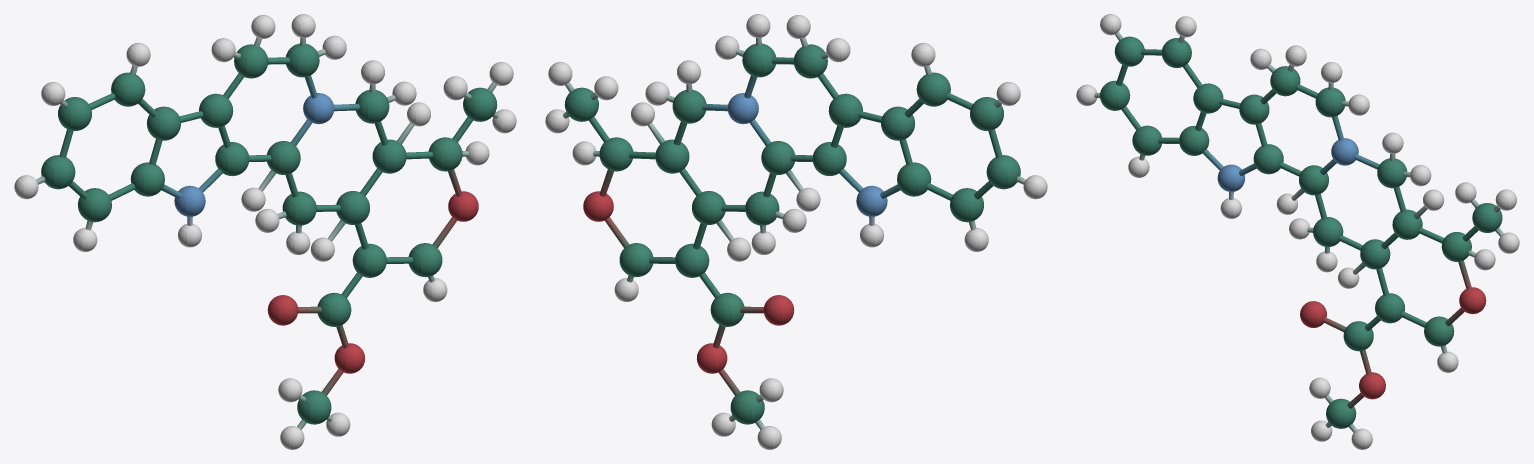
File: Ajmalicine.fbx
3 renders of one model, left to right at view 1: azimuth 30°, elevation 25°; view 2: azimuth 150°, elevation 25°; view 3: azimuth 330°, elevation 25°, orthographic. The views are drawn at different scales.
Parts seen in each view (by area): view 1: curMeshHyperballExportedMesh; view 2: curMeshHyperballExportedMesh; view 3: curMeshHyperballExportedMesh.
Boxes of the visible parts, x1,y1,x2,y2 form: curMeshHyperballExportedMesh: (14, 14, 516, 449); curMeshHyperballExportedMesh: (545, 14, 1047, 449); curMeshHyperballExportedMesh: (1076, 14, 1519, 449).
Bounding box in the file's own units: 9.51 × 8.06 × 0.5667.
